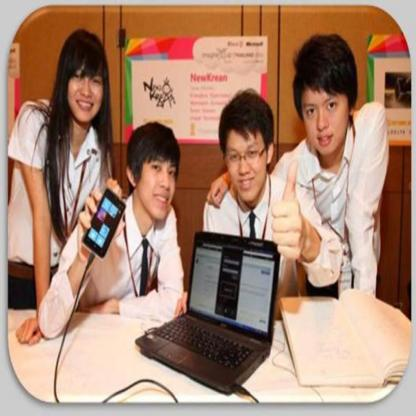board: (132, 231, 280, 396)
